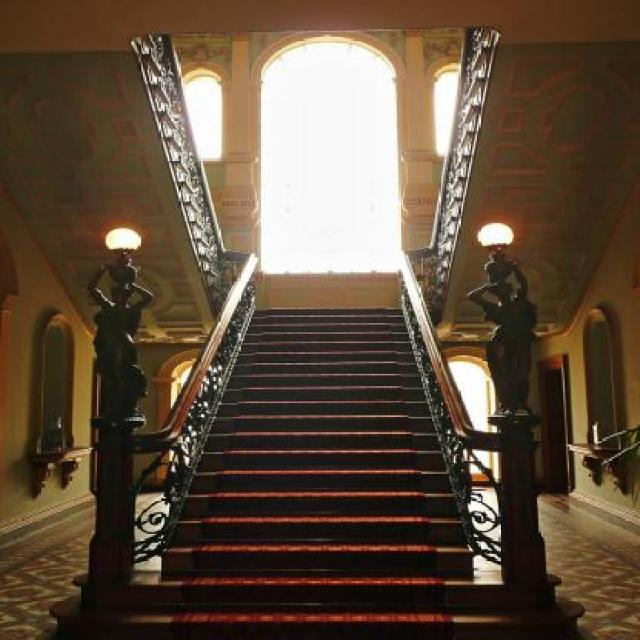stair: (46, 306, 588, 636)
